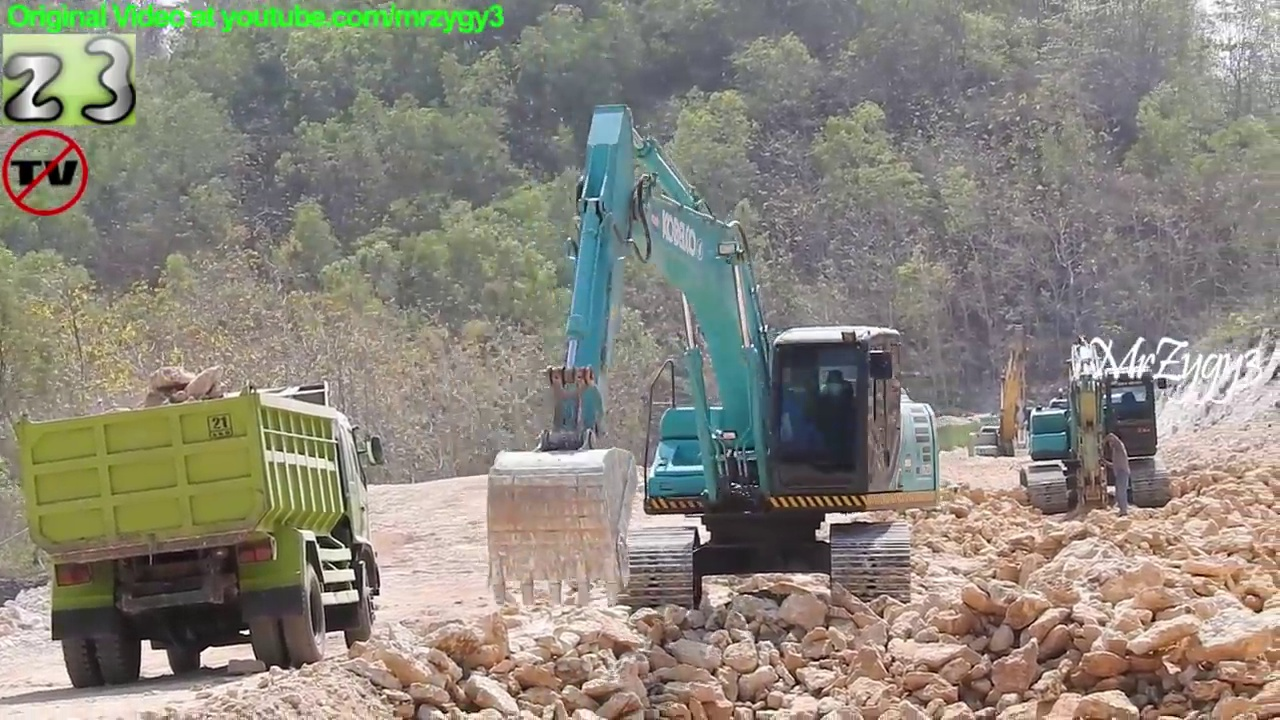excavator: (479, 99, 947, 624), (964, 313, 1062, 474)
excavator breaker: (1013, 327, 1182, 530)
truck: (9, 376, 391, 695)
worker: (1091, 421, 1143, 524)
